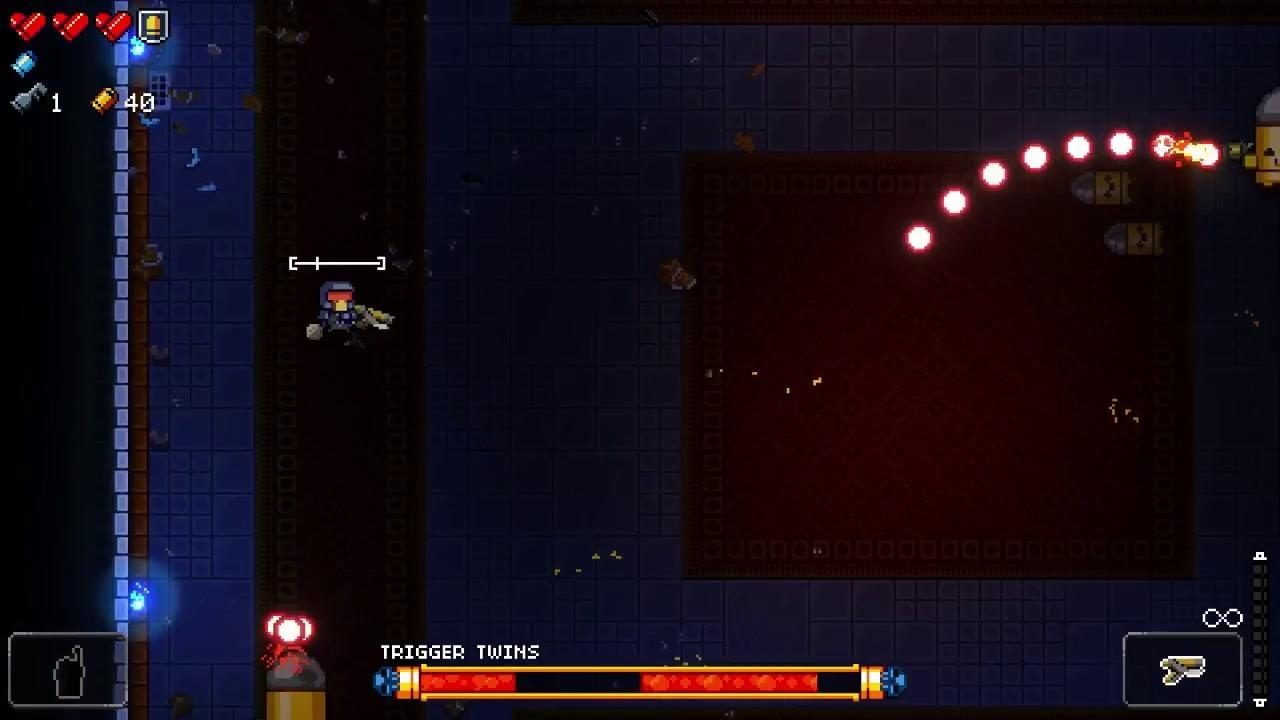boss_shades: (266, 651, 326, 718)
boss_smiley: (1255, 89, 1280, 186)
bullet: (1018, 141, 1050, 174), (940, 186, 970, 220), (1103, 131, 1136, 161), (978, 160, 1009, 191), (1062, 133, 1092, 164), (903, 224, 935, 253), (275, 615, 303, 647), (1193, 142, 1221, 170), (1150, 134, 1178, 161)
dead_bullet_kin: (1103, 223, 1168, 257), (1074, 171, 1132, 206)
player: (316, 281, 356, 332)
